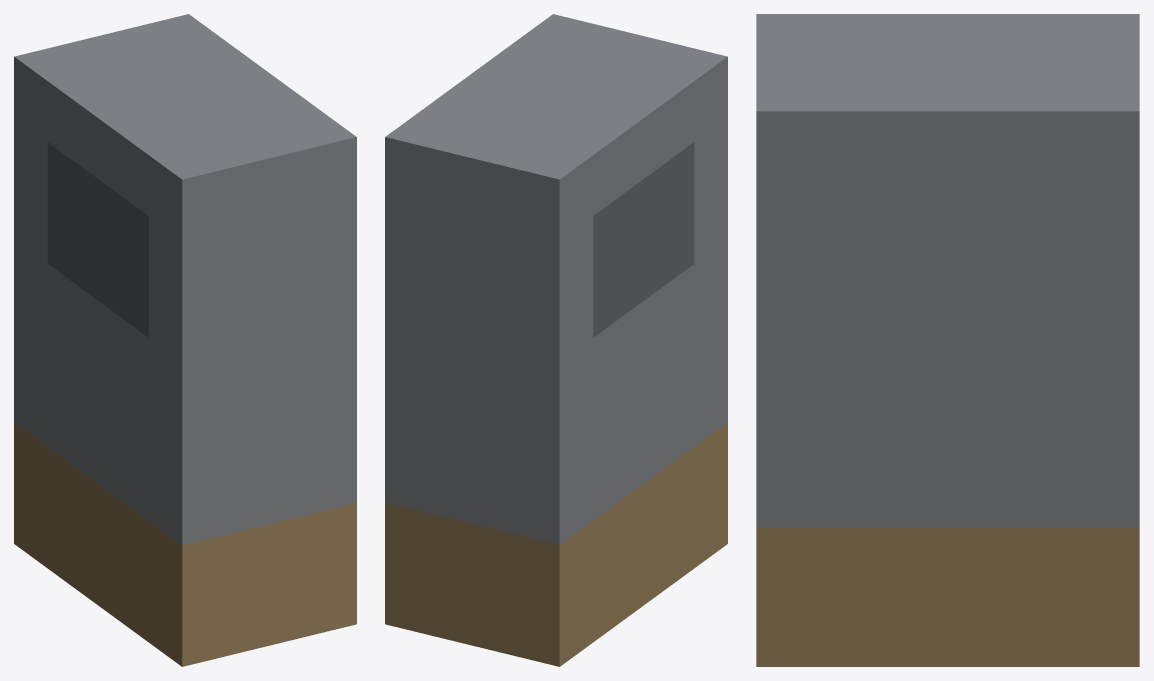
The model's file is left_arm.glb.
3 views of the same model, side by side, from view 1: azimuth 30°, elevation 25°; view 2: azimuth 150°, elevation 25°; view 3: azimuth 270°, elevation 25° (orthographic). The views are drawn at different scales.
Size of the model in its own units: 3 by 8 by 5.
